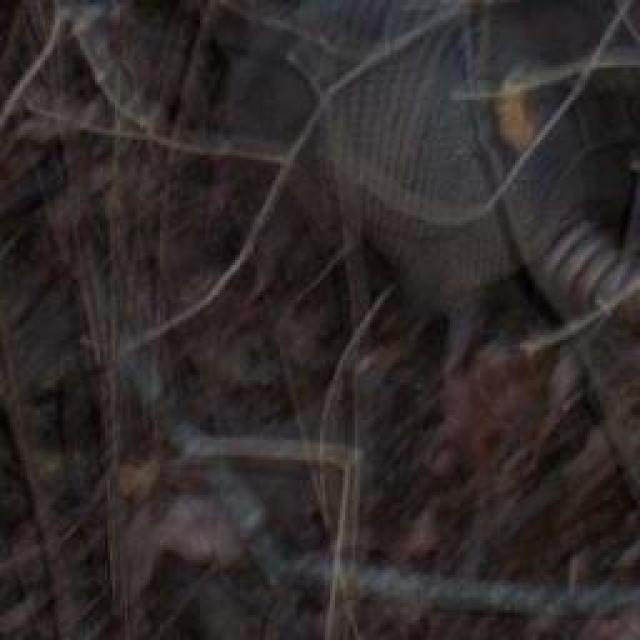not_pig: (225, 0, 638, 638)
